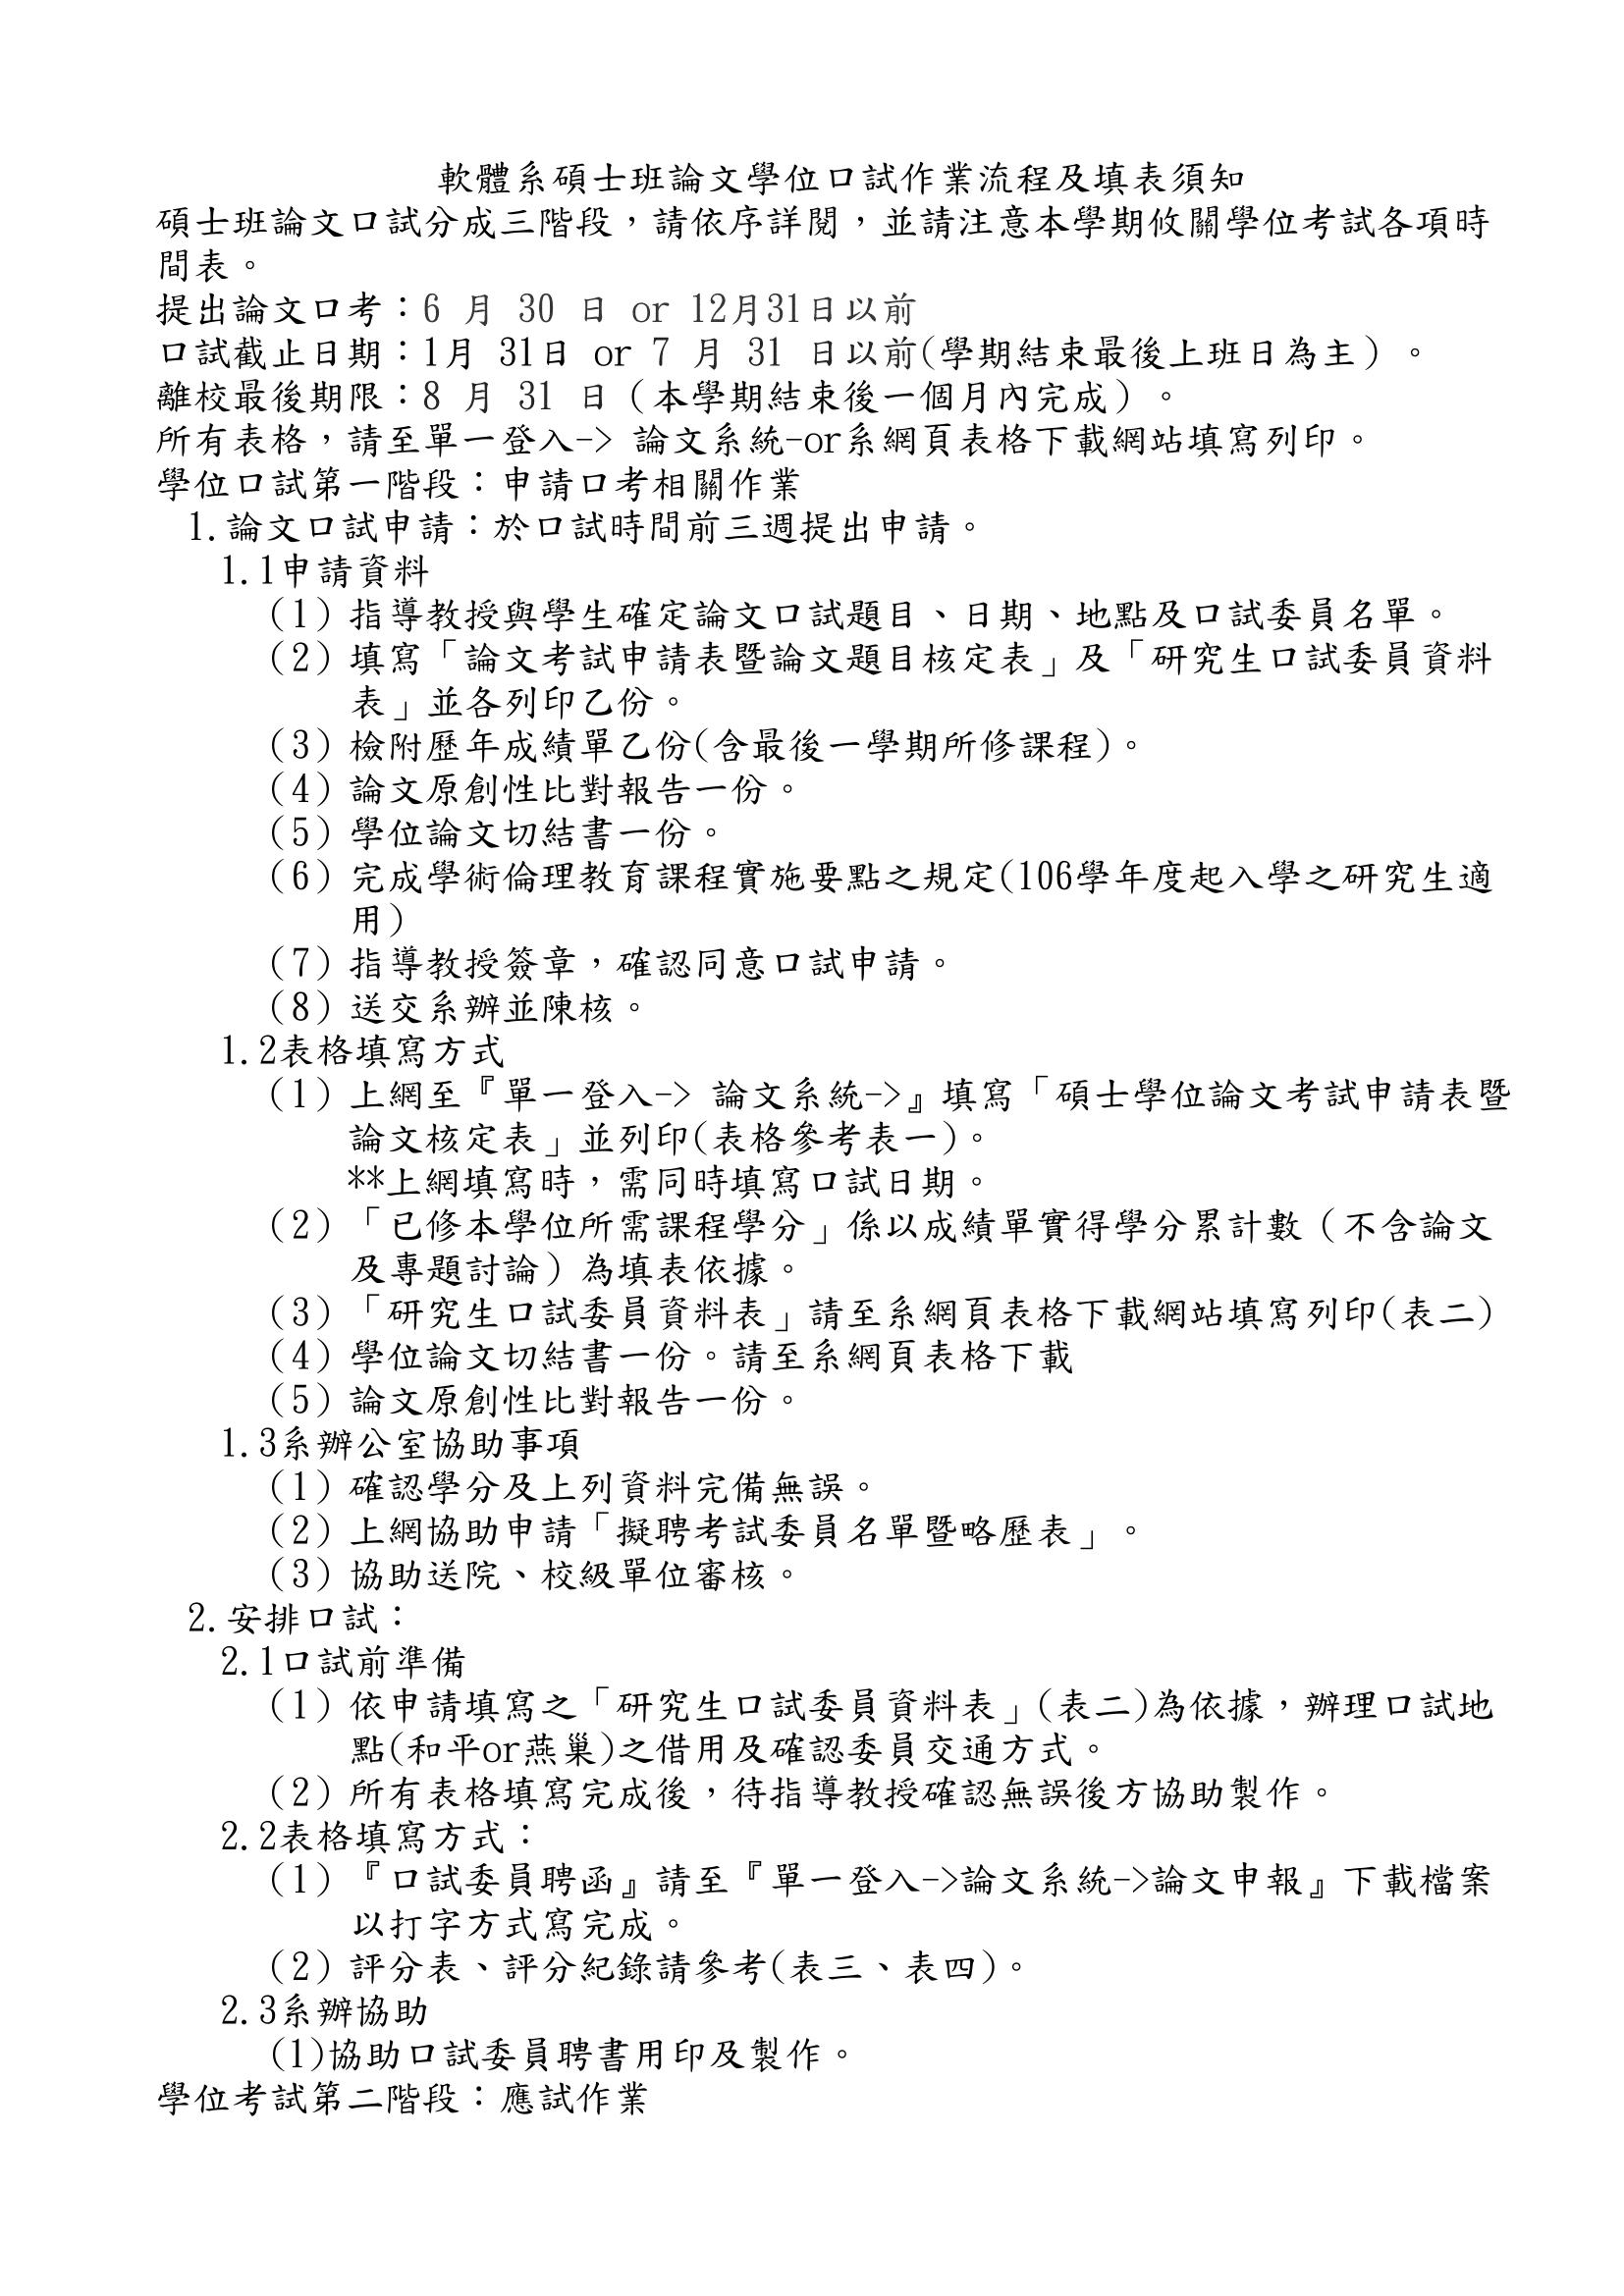text: (178, 508, 1510, 1029), (172, 1600, 1512, 2080), (197, 1035, 1501, 1425), (149, 197, 1503, 504), (202, 1430, 1192, 1602), (429, 156, 1246, 199), (151, 2075, 666, 2136)
